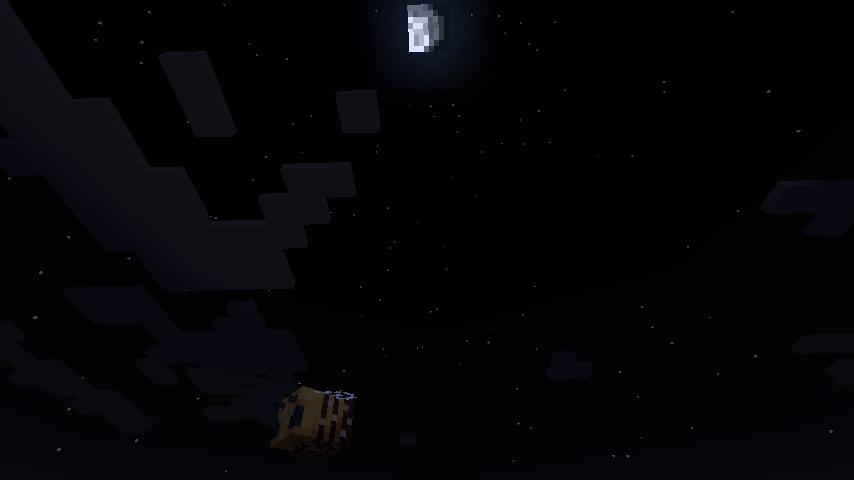bee: (267, 383, 360, 462)
